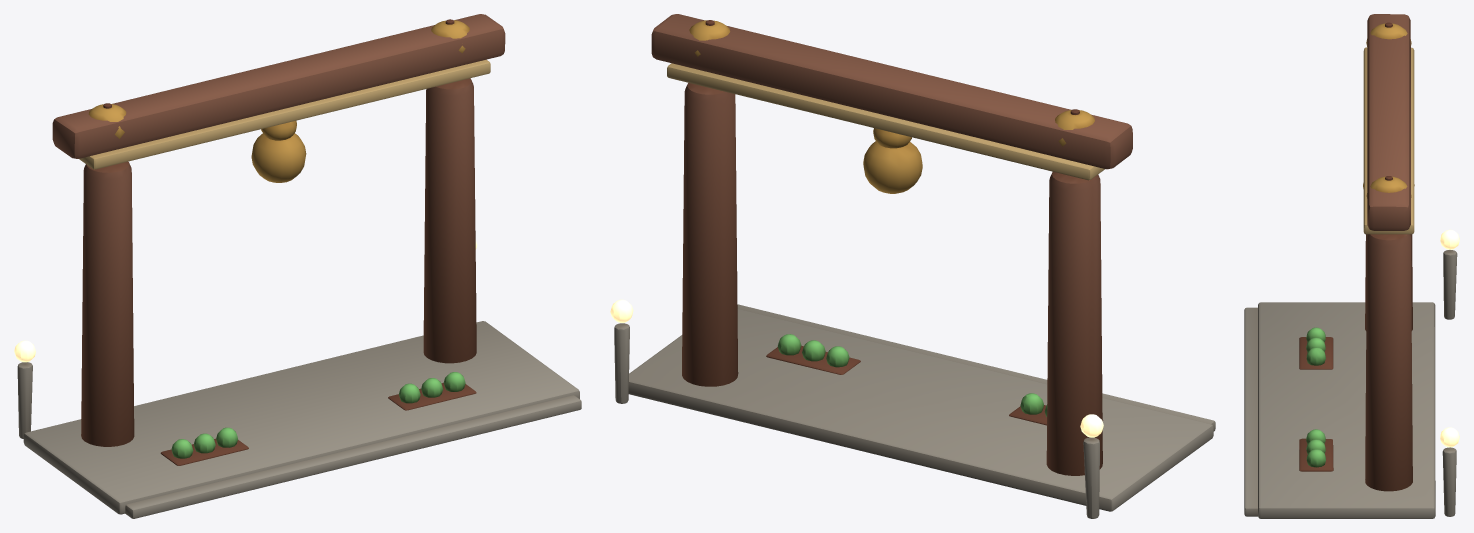
3 views of the same model, side by side, from view 1: azimuth 30°, elevation 25°; view 2: azimuth 150°, elevation 25°; view 3: azimuth 270°, elevation 25° (orthographic). The views are drawn at different scales.
Visible parts, largest first — view 1: gate_5659f105; view 2: gate_5659f105; view 3: gate_5659f105.
Boxes of the visible parts, <box> form: gate_5659f105: <box>14,14,581,518</box>; gate_5659f105: <box>610,14,1215,518</box>; gate_5659f105: <box>1244,14,1459,518</box>.
Bounding box in the file's own units: 5.79 × 4.14 × 2.55.
